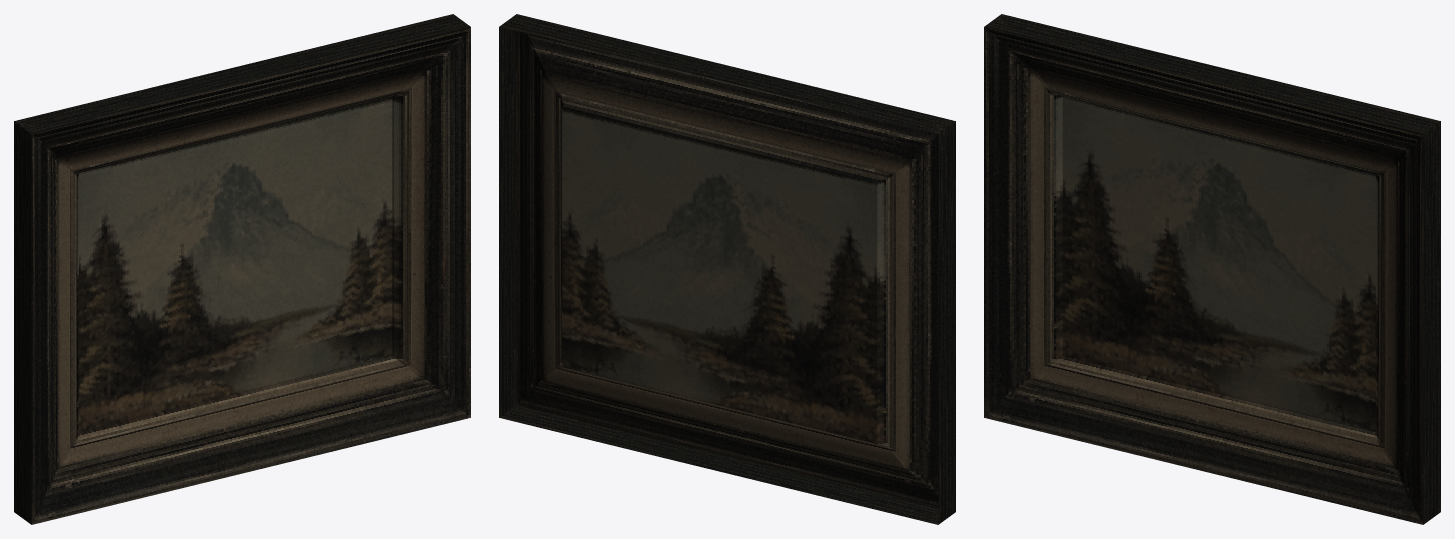
Rendered from painting_5.glb.
3 views of the same model, side by side, from view 1: azimuth 30°, elevation 25°; view 2: azimuth 150°, elevation 25°; view 3: azimuth 330°, elevation 25° (orthographic).
Visible parts, largest first — view 1: painting_5; view 2: painting_5; view 3: painting_5.
Boxes of the visible parts, x1,y1,x2,y2 form: painting_5: (14,14,470,524); painting_5: (499,14,955,524); painting_5: (984,14,1440,524).
Size of the model in its own units: 1.16 by 0.9828 by 0.08.
Materials: 1 (1 with a texture image).
